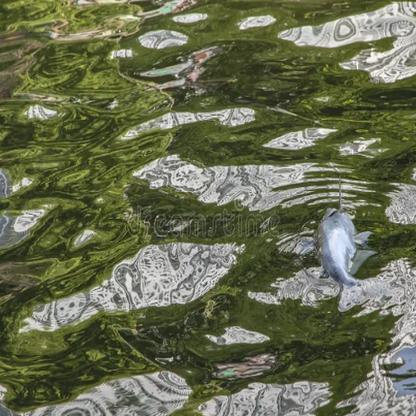deceased fish: (321, 206, 373, 291)
